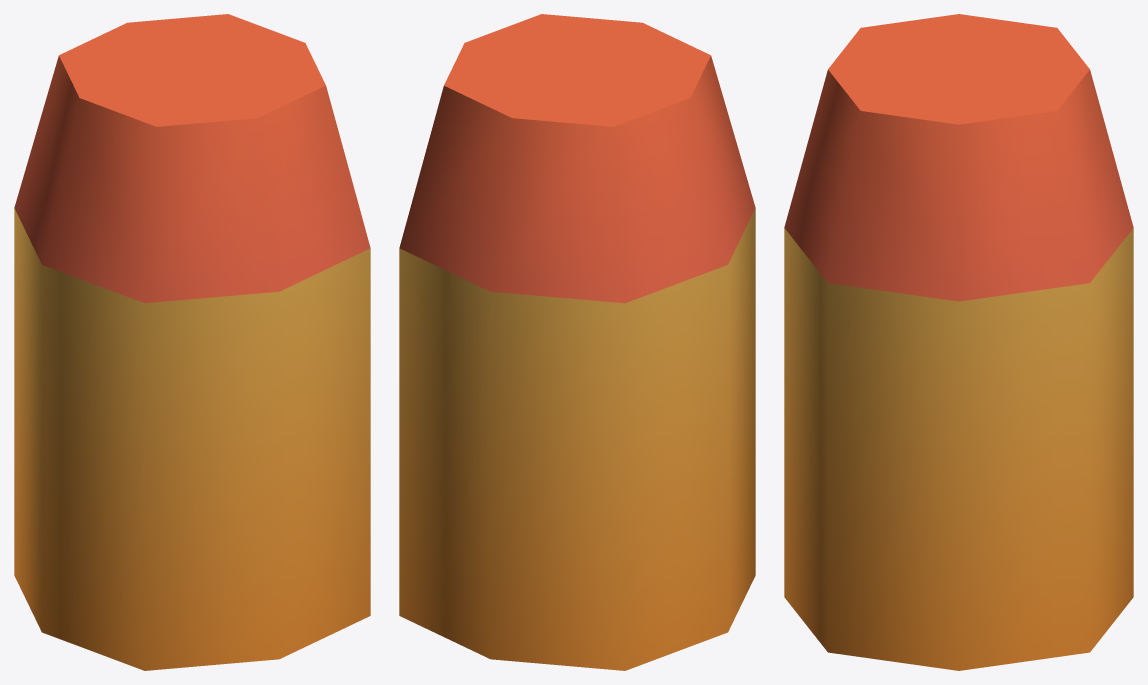
The model's file is bullet-foam-tip-thick.glb.
The picture shows the model from 3 angles, left to right: view 1: azimuth 30°, elevation 25°; view 2: azimuth 150°, elevation 25°; view 3: azimuth 270°, elevation 25°; orthographic projection.
Parts seen in each view (by area): view 1: bullet-foam-tip-thick; view 2: bullet-foam-tip-thick; view 3: bullet-foam-tip-thick.
Boxes of the visible parts, x1,y1,x2,y2 form: bullet-foam-tip-thick: [14, 14, 370, 670]; bullet-foam-tip-thick: [399, 14, 755, 670]; bullet-foam-tip-thick: [784, 14, 1133, 670].
Size of the model in its own units: 0.03 by 0.05 by 0.03.
Materials: 1 (1 with a texture image).
